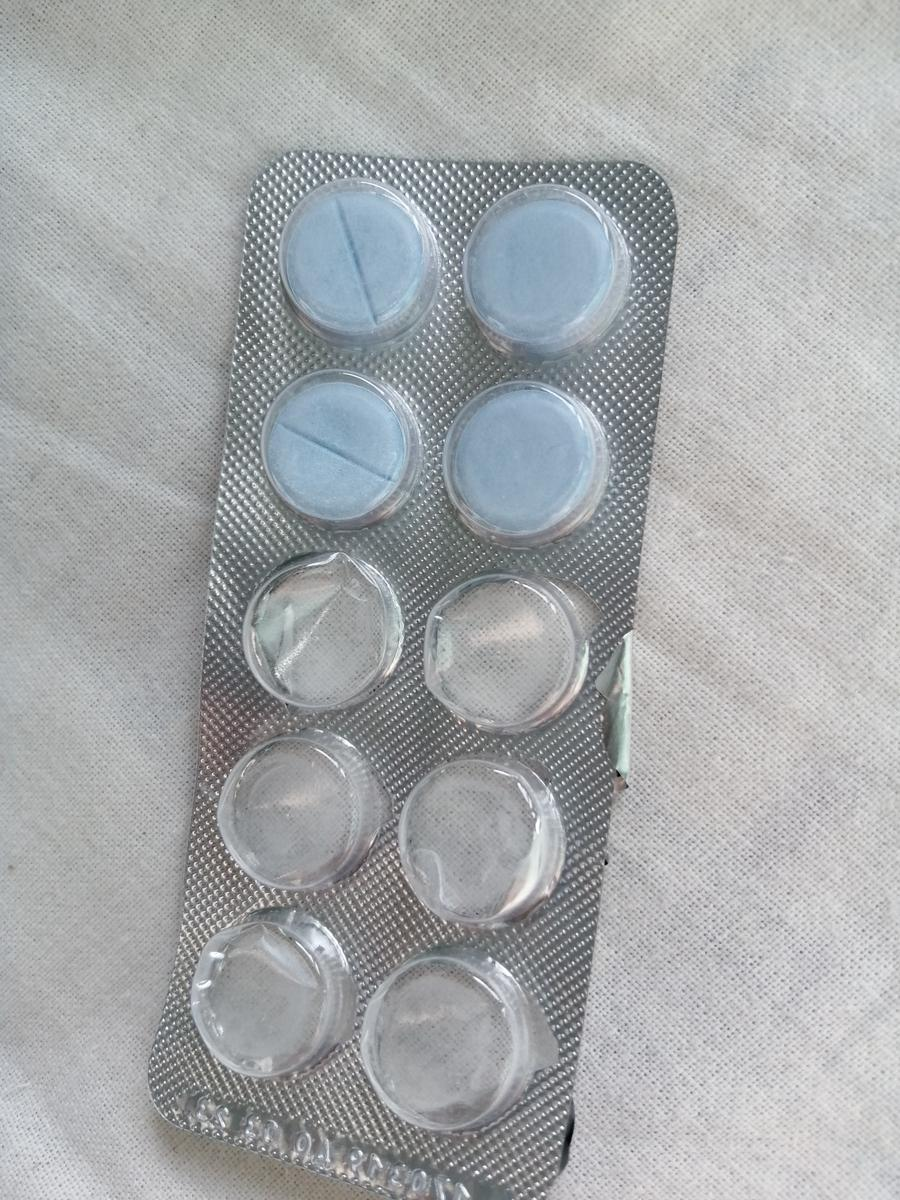tablet: (439, 378, 609, 544), (462, 181, 623, 353), (277, 178, 442, 343), (256, 369, 417, 521)
